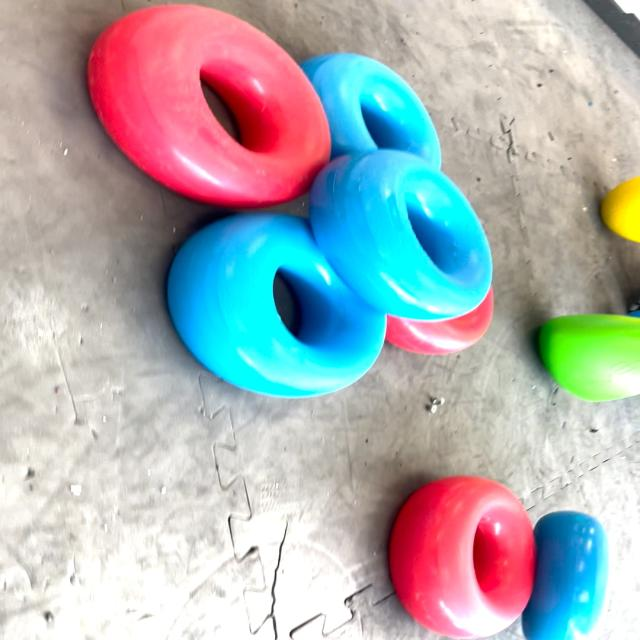Blue-Ring: (167, 212, 384, 398), (309, 150, 491, 320), (308, 57, 448, 172), (522, 511, 609, 640)
Red-Ring: (89, 5, 331, 209), (389, 476, 536, 639), (384, 289, 493, 355)
